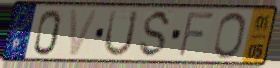0: (32, 8, 64, 57)
F: (176, 10, 217, 59)
O: (211, 11, 247, 61)
S: (137, 8, 174, 60)
U: (102, 8, 140, 58)
V: (68, 8, 101, 58)
